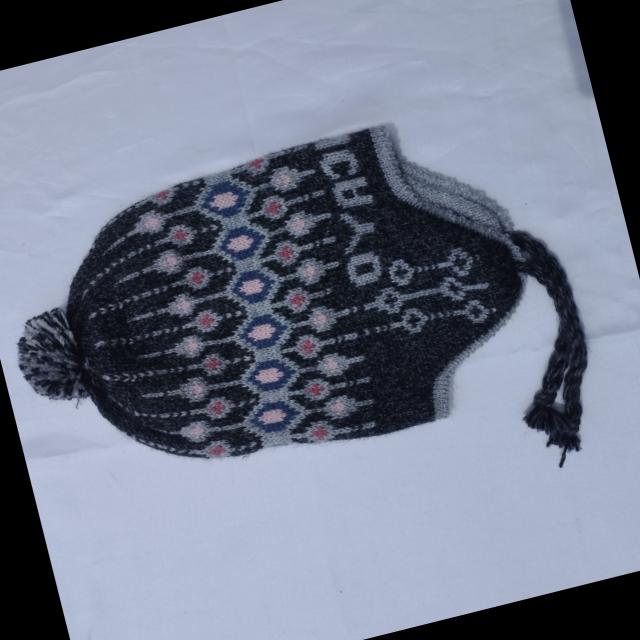Gorro: (0, 86, 616, 589)
